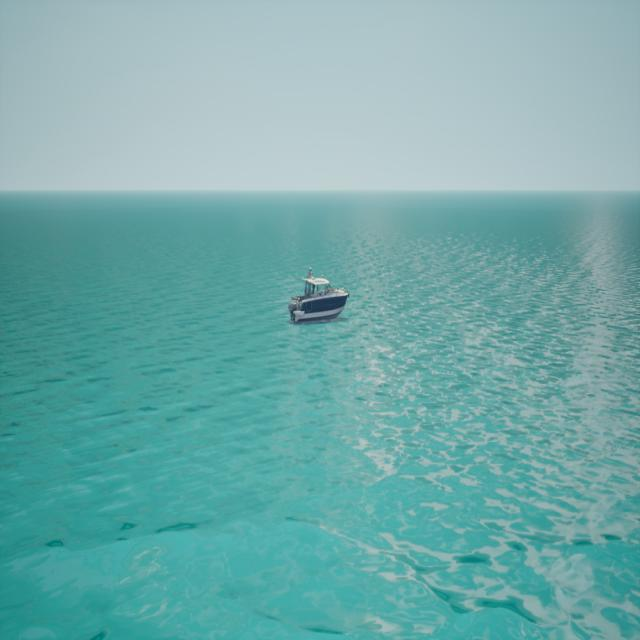ship: (287, 265, 351, 324)
